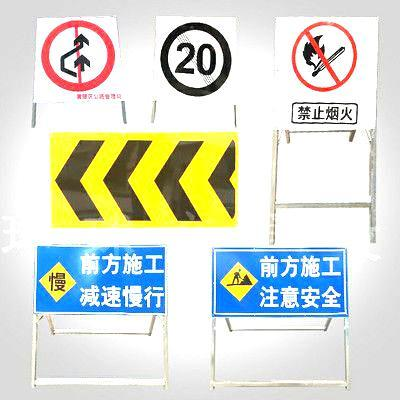sign: (35, 244, 166, 315), (214, 250, 348, 315)
